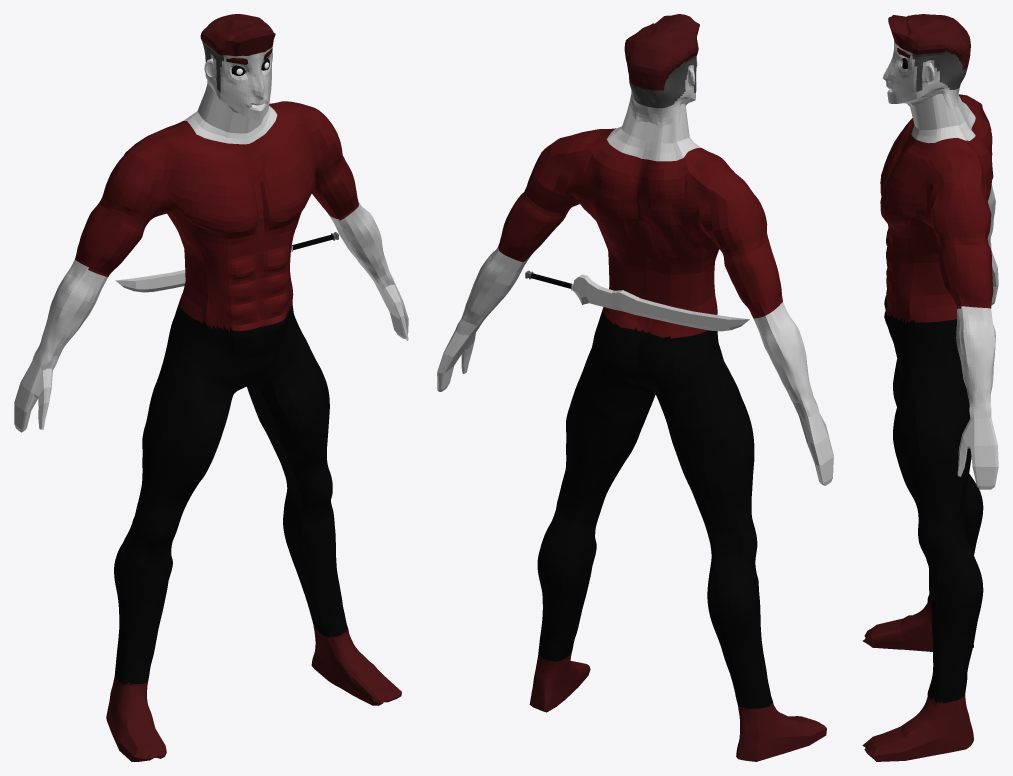
File: CHARACTER.fbx
The picture shows the model from 3 angles, left to right: view 1: azimuth 30°, elevation 25°; view 2: azimuth 150°, elevation 25°; view 3: azimuth 270°, elevation 25°; orthographic projection. The views are drawn at different scales.
Visible parts, largest first — view 1: Cube, Cube.002; view 2: Cube, Cube.002; view 3: Cube.
Part boxes in pixels (bbox=[...]): Cube: bbox=[14, 14, 408, 761]; Cube.002: bbox=[115, 232, 338, 292]; Cube: bbox=[437, 14, 833, 761]; Cube.002: bbox=[525, 270, 749, 331]; Cube: bbox=[862, 14, 998, 761].
Bounding box in the file's own units: 384 × 657 × 119.
